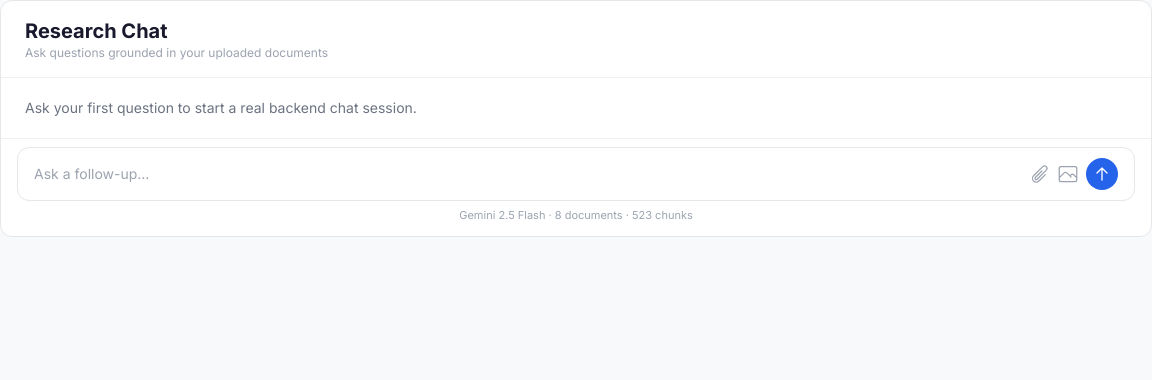
ChatArea › shows error if stream fails
Type "question" into the field named "Chat message input". click: (528, 174)
box: [34,164,1022,184]
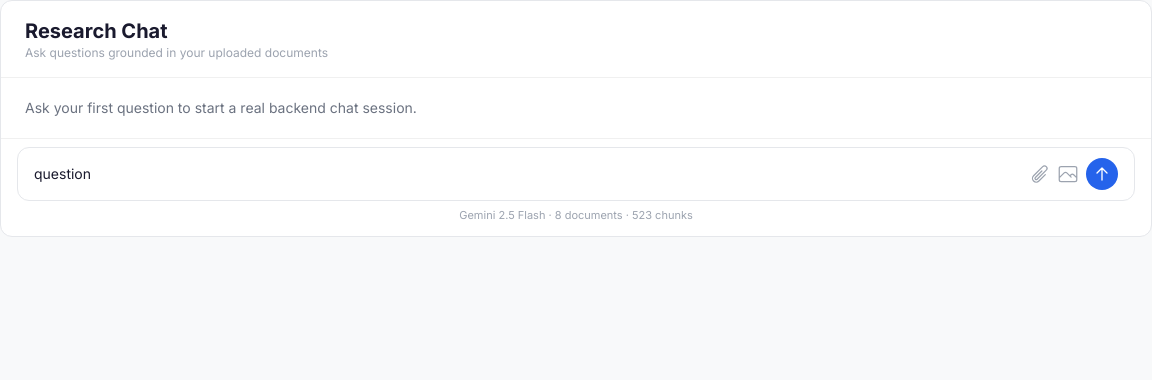
Click the button named "Send message". click: (1102, 174)
box: [1086,158,1118,190]
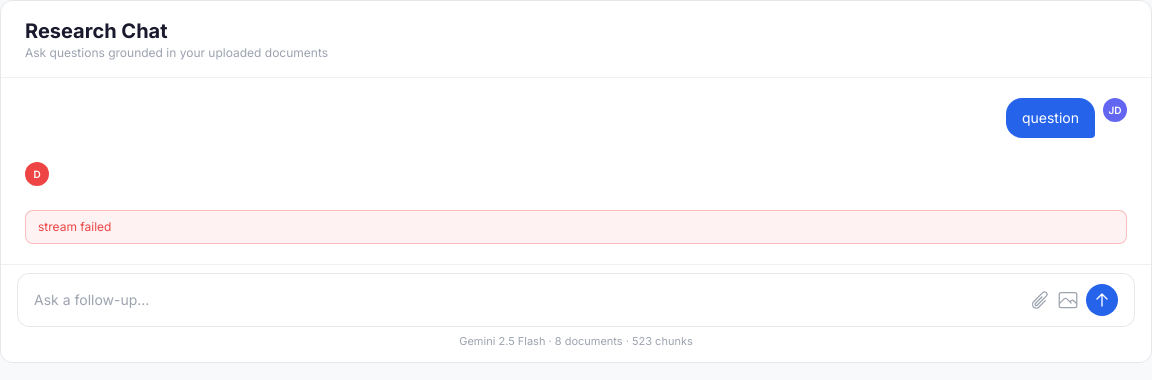
Now the text "stream failed" is shown, box [25,210,1127,244]
